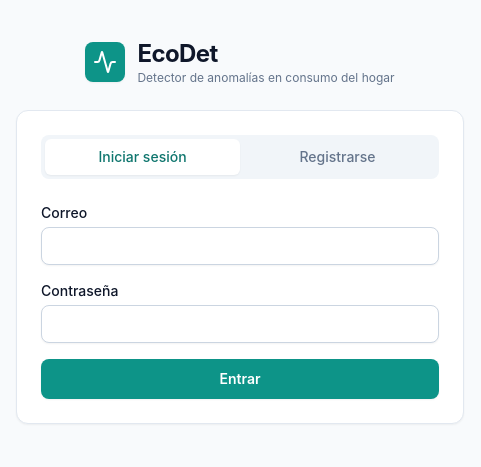
Test: Iniciar y cerrar sesión desde la interfaz › con un 401 al iniciar sesión no se dispara el cierre de sesión automático
The image size is (481, 467).
In the field labelled "Correo": (240, 246) [41,227,439,265], type "a@b.com"
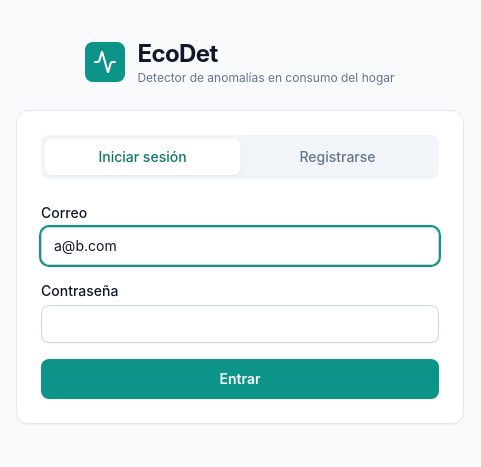
In the password field labelled "Contraseña": (240, 324) [41,305,439,343], type "x"
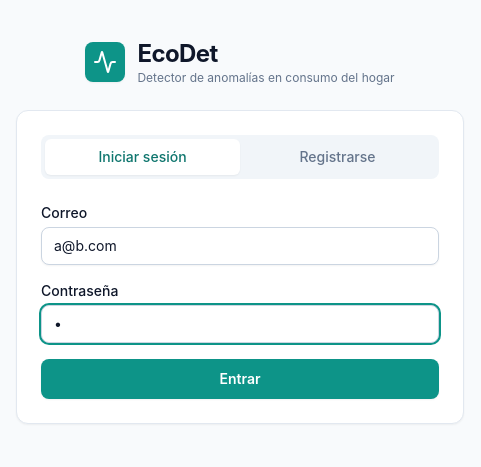
Click the button "Entrar": (240, 379) [41,359,439,399]
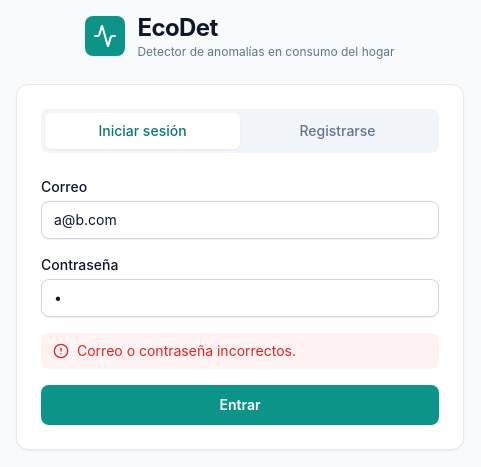
Expected: the tab "Iniciar sesión" is shown, [45,113,240,149]
Expected: the message "Correo o contraseña incorrectos." is shown, [41,333,439,369]
